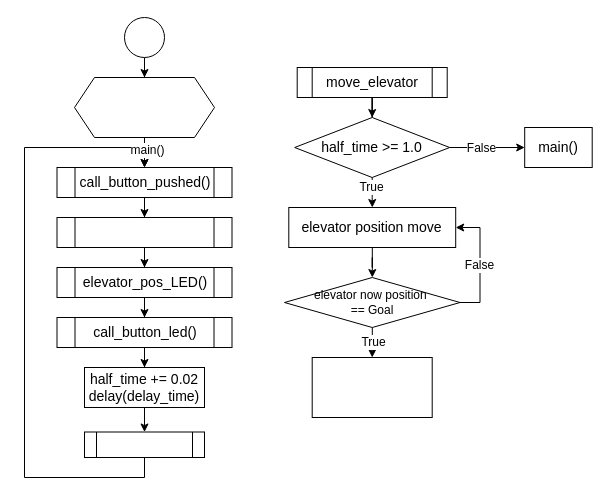
This 610x503 diagram has some shape labels left out. Each missing label, with the box of its shape:
call_sort: (84, 431, 204, 458)
Goal = new Goal: (311, 356, 432, 418)
move_elevator(): (56, 216, 232, 248)
Variable declaration, Function declaration: (74, 76, 214, 138)
